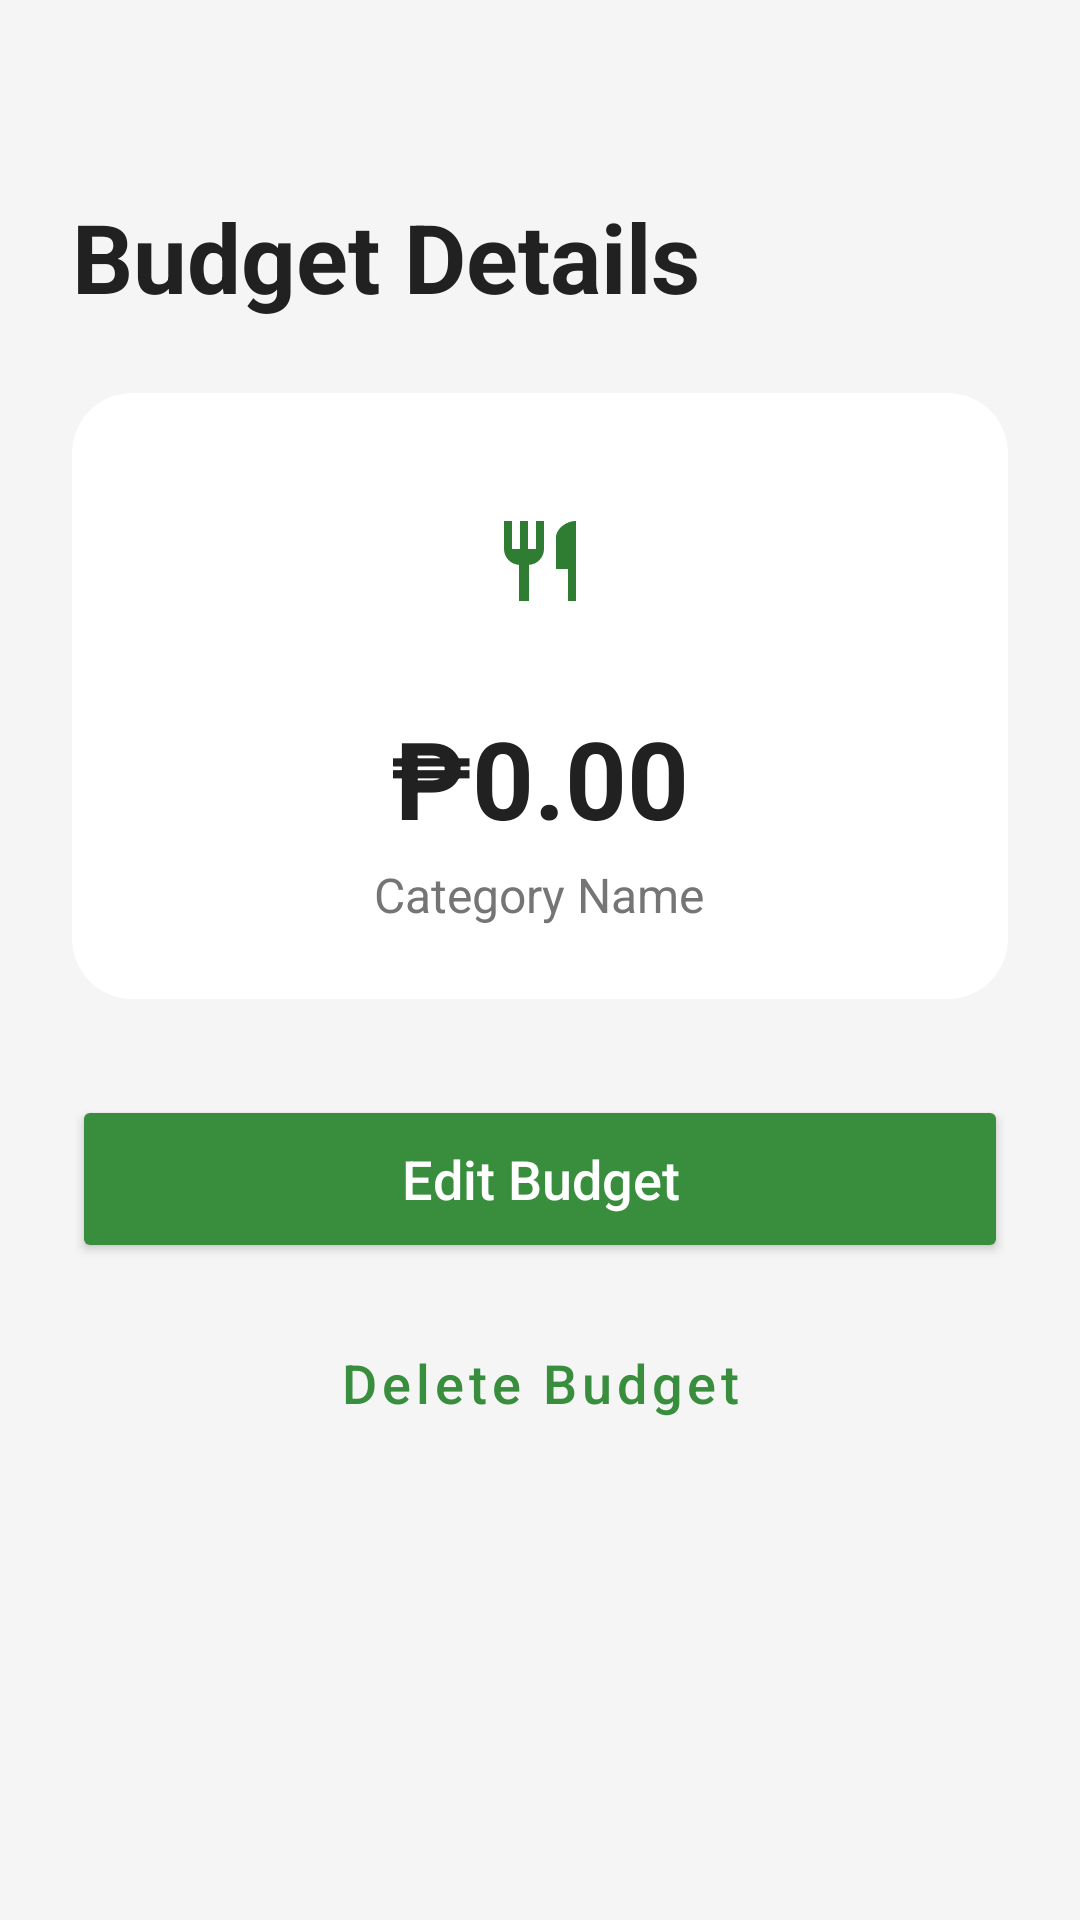

Screen size 1080 × 1920. Icon name, then its box in pixels as [x1, y1, x2, y2]:
Category Icon: [504, 521, 576, 601]
